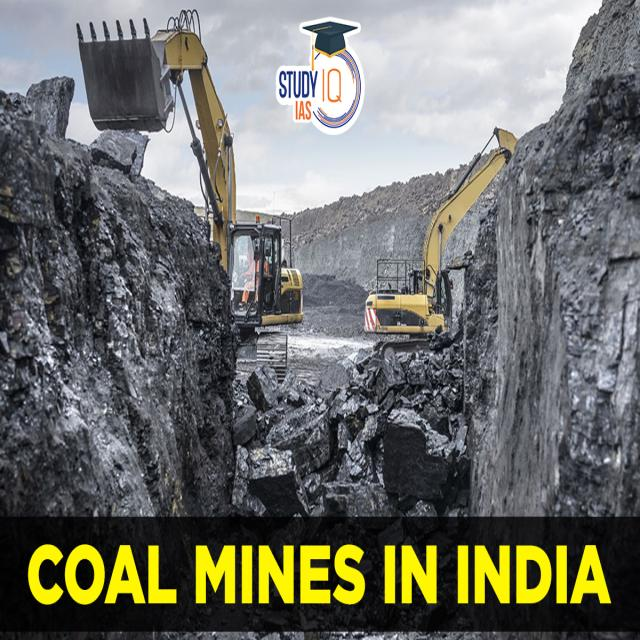excavator: (68, 1, 304, 388), (357, 117, 512, 349)
